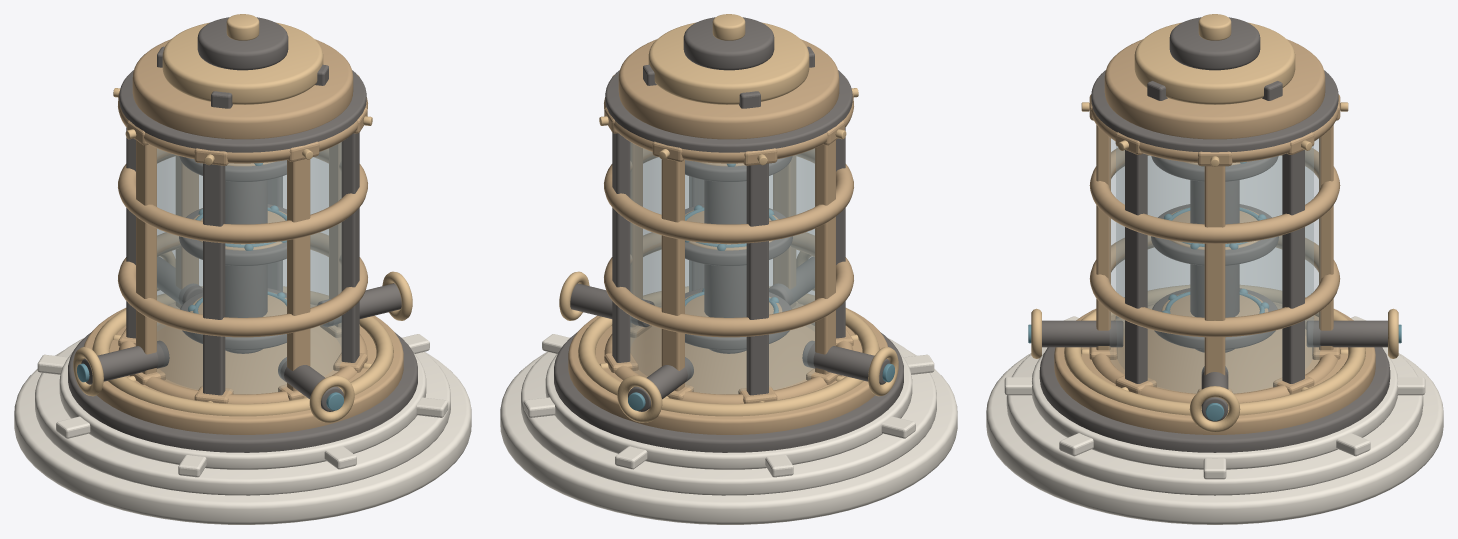
Rendered from cv_core_reactor_v1.glb.
3 views of the same model, side by side, from view 1: azimuth 30°, elevation 25°; view 2: azimuth 150°, elevation 25°; view 3: azimuth 270°, elevation 25° (orthographic).
Parts seen in each view (by area): view 1: Glass_Outer_Jacket, Glass_Inner_Jacket, Stone_Plinth_Lower, Stone_Plinth_Mid, Lower_Collar_Bronze, Upper_Main_Housing, Lower_Collar_Dark, Upper_Precision_Housing, Stone_Plinth_Upper, Structural_Ring_1.62, Structural_Ring_2.62, Lower_Precision_Seat (+28 smaller); view 2: Glass_Outer_Jacket, Glass_Inner_Jacket, Stone_Plinth_Lower, Stone_Plinth_Mid, Lower_Collar_Bronze, Upper_Main_Housing, Lower_Collar_Dark, Upper_Precision_Housing, Stone_Plinth_Upper, Structural_Ring_1.62, Structural_Ring_2.62, Lower_Precision_Seat (+28 smaller); view 3: Glass_Outer_Jacket, Glass_Inner_Jacket, Stone_Plinth_Lower, Lower_Collar_Bronze, Stone_Plinth_Mid, Upper_Main_Housing, Lower_Collar_Dark, Upper_Precision_Housing, Stone_Plinth_Upper, Structural_Ring_1.62, Structural_Ring_2.62, Lower_Precision_Seat (+25 smaller).
Part boxes in pixels (x1,y1,x2,y2): Glass_Outer_Jacket: [157, 142, 341, 393]; Glass_Inner_Jacket: [157, 142, 341, 393]; Stone_Plinth_Lower: [14, 350, 471, 524]; Stone_Plinth_Mid: [35, 338, 450, 495]; Lower_Collar_Bronze: [84, 304, 403, 434]; Upper_Main_Housing: [132, 39, 353, 139]; Lower_Collar_Dark: [68, 332, 417, 452]; Upper_Precision_Housing: [162, 22, 323, 104]; Stone_Plinth_Upper: [59, 352, 426, 469]; Structural_Ring_1.62: [118, 232, 367, 337]; Structural_Ring_2.62: [118, 148, 367, 243]; Lower_Precision_Seat: [92, 286, 393, 416]; Glass_Outer_Jacket: [630, 142, 814, 393]; Glass_Inner_Jacket: [630, 142, 814, 393]; Stone_Plinth_Lower: [500, 350, 957, 524]; Stone_Plinth_Mid: [521, 338, 936, 495]; Lower_Collar_Bronze: [568, 304, 887, 434]; Upper_Main_Housing: [618, 39, 839, 139]; Lower_Collar_Dark: [554, 332, 903, 452]; Upper_Precision_Housing: [648, 22, 809, 104]; Stone_Plinth_Upper: [545, 352, 912, 469]; Structural_Ring_1.62: [604, 232, 853, 337]; Structural_Ring_2.62: [604, 148, 853, 243]; Lower_Precision_Seat: [578, 286, 879, 416]; Glass_Outer_Jacket: [1110, 138, 1319, 392]; Glass_Inner_Jacket: [1116, 146, 1313, 392]; Stone_Plinth_Lower: [986, 353, 1443, 524]; Lower_Collar_Bronze: [1054, 302, 1375, 434]; Stone_Plinth_Mid: [1006, 347, 1423, 495]; Upper_Main_Housing: [1104, 39, 1325, 139]; Lower_Collar_Dark: [1039, 347, 1390, 452]; Upper_Precision_Housing: [1134, 22, 1295, 104]; Stone_Plinth_Upper: [1032, 353, 1397, 469]; Structural_Ring_1.62: [1089, 235, 1340, 337]; Structural_Ring_2.62: [1089, 148, 1340, 243]; Lower_Precision_Seat: [1064, 285, 1365, 416].
Bounding box in the file's own units: 4.44 × 4.39 × 4.44.
